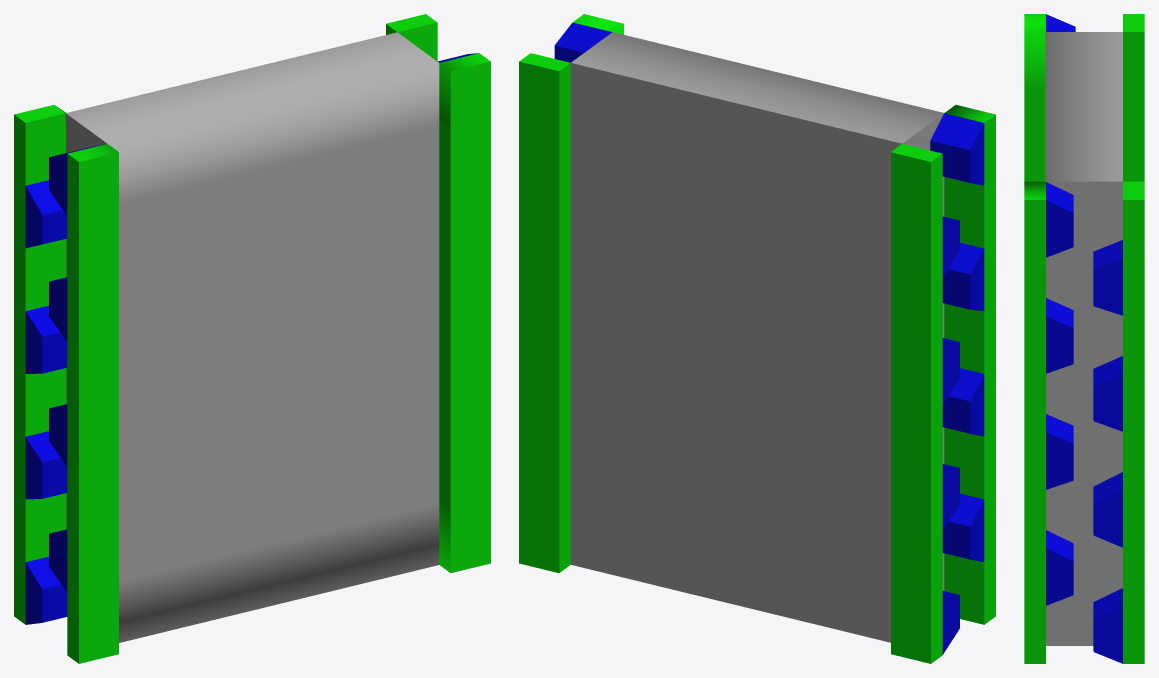
The model's file is WaterGate_No1.fbx.
3 renders of one model, left to right at view 1: azimuth 30°, elevation 25°; view 2: azimuth 150°, elevation 25°; view 3: azimuth 270°, elevation 25°, orthographic. The views are drawn at different scales.
Visible parts, largest first — view 1: pCube1; view 2: pCube1; view 3: pCube1.
Boxes of the visible parts, x1,y1,x2,y2 form: pCube1: (14,14,490,663); pCube1: (519,14,995,663); pCube1: (1024,14,1144,663).
Bounding box in the file's own units: 19.65 × 22.6 × 5.3.
